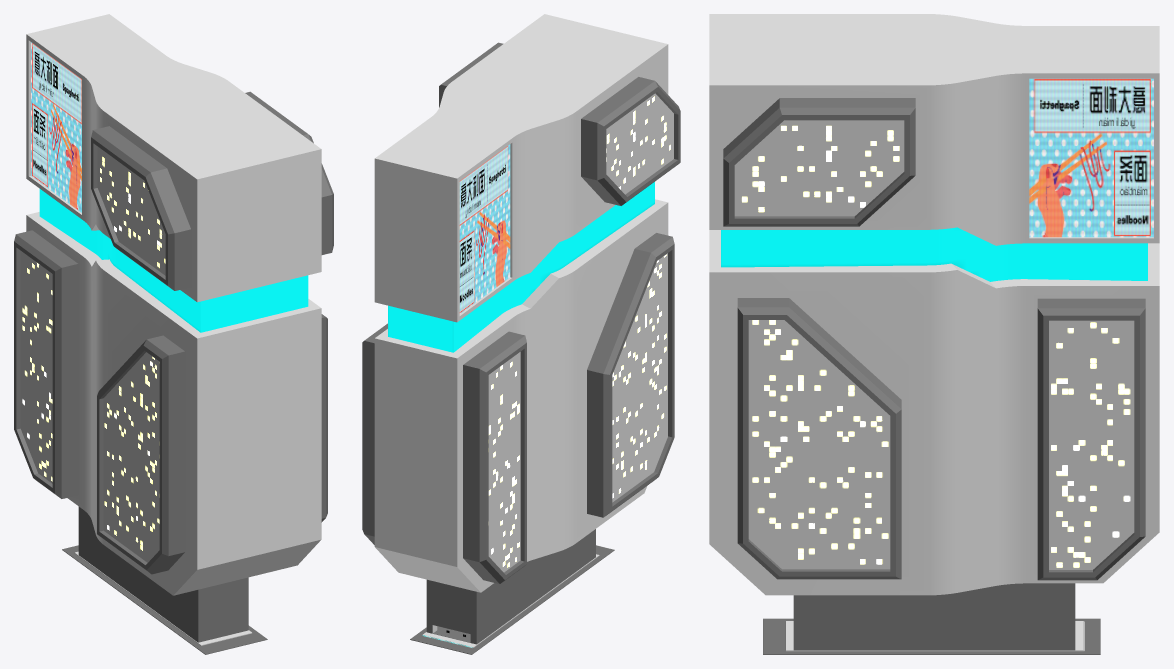
Rendered from Bina 15.fbx.
3 views of the same model, side by side, from view 1: azimuth 30°, elevation 25°; view 2: azimuth 150°, elevation 25°; view 3: azimuth 270°, elevation 25° (orthographic). The views are drawn at different scales.
Visible parts, largest first — view 1: Med, MedStand; view 2: Med, MedStand; view 3: Med, MedStand.
Boxes of the visible parts, bbox=[...] form: Med: bbox=[14, 14, 333, 642]; MedStand: bbox=[62, 545, 267, 654]; Med: bbox=[362, 14, 680, 644]; MedStand: bbox=[410, 545, 614, 654]; Med: bbox=[709, 14, 1159, 650]; MedStand: bbox=[763, 618, 1100, 654].
Bounding box in the file's own units: 51.39 × 148 × 103.
Materials: 3 (3 with a texture image).
